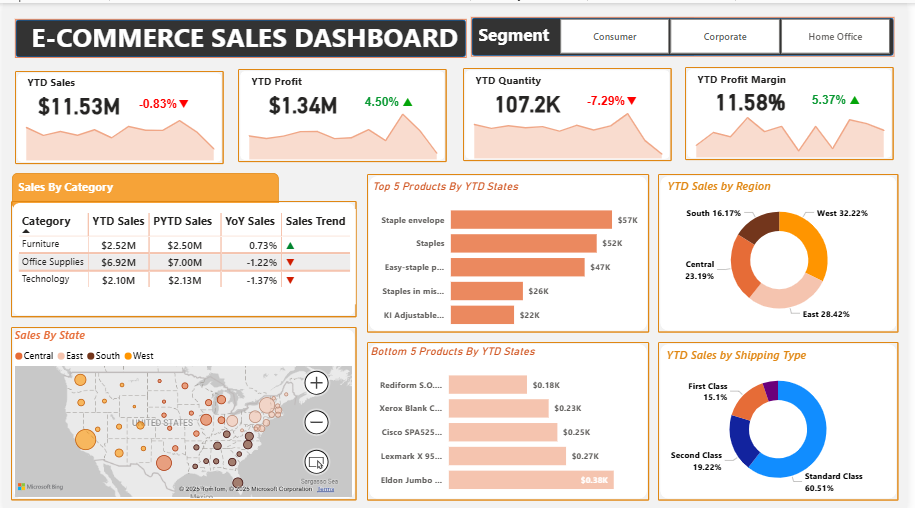

This screenshot's page, from the dashboard's own definition file:
{"tool":"powerbi","page":{"name":"Page 1","canvas":[1280,720],"ordinal":0},"visuals":[{"type":"shape","title":"tth","box":[17.5,22.5,640,55],"z":0},{"type":"card","fields":{"Values":["ecommerce_data.YoY Profit Margin"]},"box":[1133.3,119.2,73.9,38.6],"z":0,"group":"g4"},{"type":"card","fields":{"Values":["ecommerce_data.YoY Quantity"]},"box":[818.3,120.9,73.9,38.6],"z":0,"group":"g3"},{"type":"card","fields":{"Values":["ecommerce_data.YoY Profit"]},"box":[500,122.5,73.9,38.6],"z":0,"group":"g2"},{"type":"card","fields":{"Values":["ecommerce_data.YoY Sales"]},"box":[183.3,124.2,73.9,38.6],"z":0,"group":"g1"},{"type":"textbox","box":[35,17.5,657.5,60],"z":1000},{"type":"card","fields":{"Values":["ecommerce_data.PM Trend"]},"box":[1185.4,120.9,42,37],"z":1000,"group":"g4"},{"type":"card","fields":{"Values":["ecommerce_data.Quantity Trend"]},"box":[870.4,122.6,42,37],"z":1000,"group":"g3"},{"type":"card","fields":{"Values":["ecommerce_data.Profit Trend"]},"box":[552.1,124.2,42,37],"z":1000,"group":"g2"},{"type":"card","fields":{"Values":["ecommerce_data.Sales Trend"]},"box":[235.4,125.9,42,37],"z":1000,"group":"g1"},{"type":"shape","box":[17,95.7,295.7,131.9],"z":2000},{"type":"card","fields":{"Values":["ecommerce_data.YTD Sales"]},"box":[31.7,113.3,153.3,61.7],"z":3000},{"type":"areaChart","fields":{"Category":["Calender.Month"],"Y":["Sum(ecommerce_data.sales_per_order)"]},"box":[18.3,143.3,295,85],"z":4000},{"type":"textbox","box":[29.8,95.7,96.8,34],"z":5000},{"type":"group","id":"g1","title":"Group 1","box":[183.3,124.2,94.6,38],"z":6000},{"type":"shape","box":[333.7,94.1,295.7,131.9],"z":7000},{"type":"card","fields":{"Values":["ecommerce_data.YTD Profit"]},"box":[348.3,111.7,153.3,61.7],"z":8000},{"type":"areaChart","fields":{"Category":["Calender.Month"],"Y":["Sum(ecommerce_data.profit_per_order)"]},"box":[335,141.7,295,85],"z":9000},{"type":"textbox","box":[346.9,94.8,93.8,33.3],"z":10000},{"type":"group","id":"g2","title":"Group 1","box":[500,122.5,94.6,38],"z":11000},{"type":"shape","box":[652,92.4,295.7,131.9],"z":12000},{"type":"card","fields":{"Values":["ecommerce_data.YTD Quantity"]},"box":[666.7,110,153.3,61.7],"z":13000},{"type":"areaChart","fields":{"Category":["Calender.Month"],"Y":["Sum(ecommerce_data.order_quantity)"]},"box":[653.3,140,295,85],"z":14000},{"type":"textbox","box":[664.9,93.6,135.1,33],"z":15000},{"type":"group","id":"g3","title":"Group 1","box":[818.3,120.9,94.6,38],"z":16000},{"type":"shape","box":[967,90.7,295.7,131.9],"z":17000},{"type":"card","fields":{"Values":["ecommerce_data.YTD Profit Margin"]},"box":[981.7,108.3,153.3,61.7],"z":18000},{"type":"areaChart","fields":{"Category":["Calender.Month"],"Y":["ecommerce_data.Profit Margin"]},"box":[968.3,138.3,295,85],"z":19000},{"type":"textbox","box":[980,91.7,155,33.3],"z":20000},{"type":"group","id":"g4","title":"Group 1","box":[1133.3,119.2,94.6,38],"z":21000},{"type":"textbox","box":[12.3,241.5,378.5,50.8],"z":22000},{"type":"shape","box":[11.7,280,490,165],"z":23000},{"type":"pivotTable","fields":{"Rows":["ecommerce_data.category_name"],"Values":["ecommerce_data.YTD Sales","Calender.PYTD Sales","ecommerce_data.YoY Sales","ecommerce_data.Sales Trend"]},"box":[16.7,291.7,483.3,135],"z":24000},{"type":"shape","box":[11.5,459.6,490.4,246.2],"z":25000},{"type":"map","title":"Sales By State","fields":{"Y":["us_codes.latitude"],"X":["us_codes.longitude"],"Size":["ecommerce_data.YTD Sales"],"Series":["ecommerce_data.customer_region"]},"box":[11.5,459.6,488.5,246.2],"z":26000},{"type":"shape","box":[515.4,242.3,400,225],"z":27000},{"type":"shape","box":[515.4,480.8,400,225],"z":28000},{"type":"barChart","title":"Top 5 Products By YTD States","fields":{"Category":["ecommerce_data.product_name"],"Y":["ecommerce_data.YTD Sales"]},"box":[519.2,250,396.2,225],"z":29000},{"type":"barChart","title":"Bottom 5 Products By YTD States","fields":{"Category":["ecommerce_data.product_name"],"Y":["ecommerce_data.YTD Sales"]},"box":[516.1,483.9,396.4,225],"z":30000},{"type":"shape","box":[928.6,242.9,341.1,225],"z":31000},{"type":"shape","box":[928.6,480.4,341.1,225],"z":32000},{"type":"donutChart","title":"YTD Sales by Region","fields":{"Category":["ecommerce_data.customer_region"],"Y":["ecommerce_data.YTD Sales"]},"box":[936.2,247.9,326.6,211.7],"z":33000},{"type":"donutChart","title":"YTD Sales by Shipping Type","fields":{"Y":["ecommerce_data.YTD Sales"],"Category":["ecommerce_data.shipping_type"]},"box":[936,488,326,212],"z":34000},{"type":"shape","title":"tth","box":[664,20,600,56],"z":35000},{"type":"slicer","fields":{"Values":["ecommerce_data.customer_segment"]},"box":[763.5,15.4,517.3,63.5],"z":36000},{"type":"textbox","box":[669.2,23.1,186.5,44.2],"z":36001}]}

Visuals, with their boxes in screenshot pixels (x1, y1, x2, y2), scaled from the page's 1280x720 canvas onto the 915x508 screenshot:
"tth" shape: bbox=(13, 16, 470, 55)
card - ecommerce_data.YoY Profit Margin: bbox=(810, 84, 863, 111)
card - ecommerce_data.YoY Quantity: bbox=(585, 85, 638, 113)
card - ecommerce_data.YoY Profit: bbox=(357, 86, 410, 114)
card - ecommerce_data.YoY Sales: bbox=(131, 88, 184, 115)
textbox: bbox=(25, 12, 495, 55)
card - ecommerce_data.PM Trend: bbox=(847, 85, 877, 111)
card - ecommerce_data.Quantity Trend: bbox=(622, 87, 652, 113)
card - ecommerce_data.Profit Trend: bbox=(395, 88, 425, 114)
card - ecommerce_data.Sales Trend: bbox=(168, 89, 198, 115)
shape: bbox=(12, 68, 224, 161)
card - ecommerce_data.YTD Sales: bbox=(23, 80, 132, 123)
areaChart - Calender.Month x Sum(ecommerce_data.sales_per_order): bbox=(13, 101, 224, 161)
textbox: bbox=(21, 68, 90, 92)
"Group 1" group: bbox=(131, 88, 199, 114)
shape: bbox=(239, 66, 450, 159)
card - ecommerce_data.YTD Profit: bbox=(249, 79, 359, 122)
areaChart - Calender.Month x Sum(ecommerce_data.profit_per_order): bbox=(239, 100, 450, 160)
textbox: bbox=(248, 67, 315, 90)
"Group 1" group: bbox=(357, 86, 425, 113)
shape: bbox=(466, 65, 677, 158)
card - ecommerce_data.YTD Quantity: bbox=(477, 78, 586, 121)
areaChart - Calender.Month x Sum(ecommerce_data.order_quantity): bbox=(467, 99, 678, 159)
textbox: bbox=(475, 66, 572, 89)
"Group 1" group: bbox=(585, 85, 653, 112)
shape: bbox=(691, 64, 903, 157)
card - ecommerce_data.YTD Profit Margin: bbox=(702, 76, 811, 120)
areaChart - Calender.Month x ecommerce_data.Profit Margin: bbox=(692, 98, 903, 158)
textbox: bbox=(701, 65, 811, 88)
"Group 1" group: bbox=(810, 84, 878, 111)
textbox: bbox=(9, 170, 279, 206)
shape: bbox=(8, 198, 359, 314)
pivotTable - ecommerce_data.category_name x ecommerce_data.YTD Sales: bbox=(12, 206, 357, 301)
shape: bbox=(8, 324, 359, 498)
"Sales By State" map: bbox=(8, 324, 357, 498)
shape: bbox=(368, 171, 654, 330)
shape: bbox=(368, 339, 654, 498)
"Top 5 Products By YTD States" barChart: bbox=(371, 176, 654, 335)
"Bottom 5 Products By YTD States" barChart: bbox=(369, 341, 652, 500)
shape: bbox=(664, 171, 908, 330)
shape: bbox=(664, 339, 908, 498)
"YTD Sales by Region" donutChart: bbox=(669, 175, 903, 324)
"YTD Sales by Shipping Type" donutChart: bbox=(669, 344, 902, 494)
"tth" shape: bbox=(475, 14, 904, 54)
slicer - ecommerce_data.customer_segment: bbox=(546, 11, 914, 56)
textbox: bbox=(478, 16, 612, 47)
